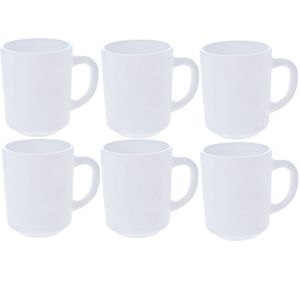cup: (100, 138, 201, 241), (201, 143, 300, 243), (1, 35, 99, 136), (102, 37, 200, 137), (2, 139, 100, 237), (200, 40, 297, 139)
